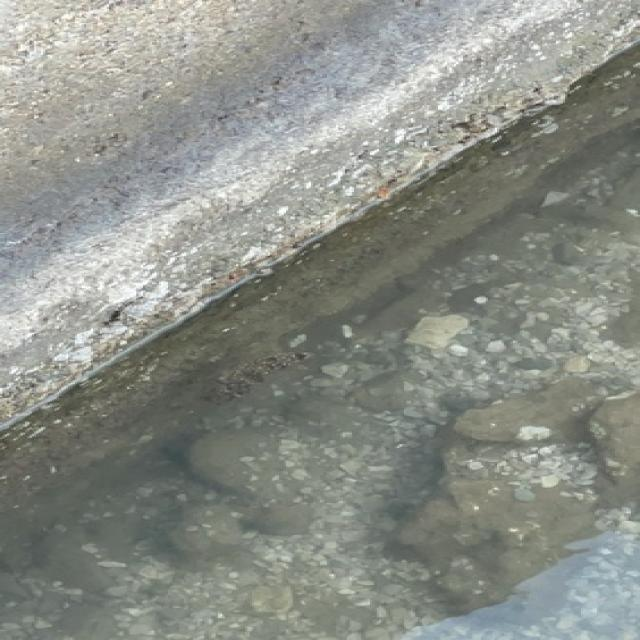Balik: (207, 353, 309, 399)
